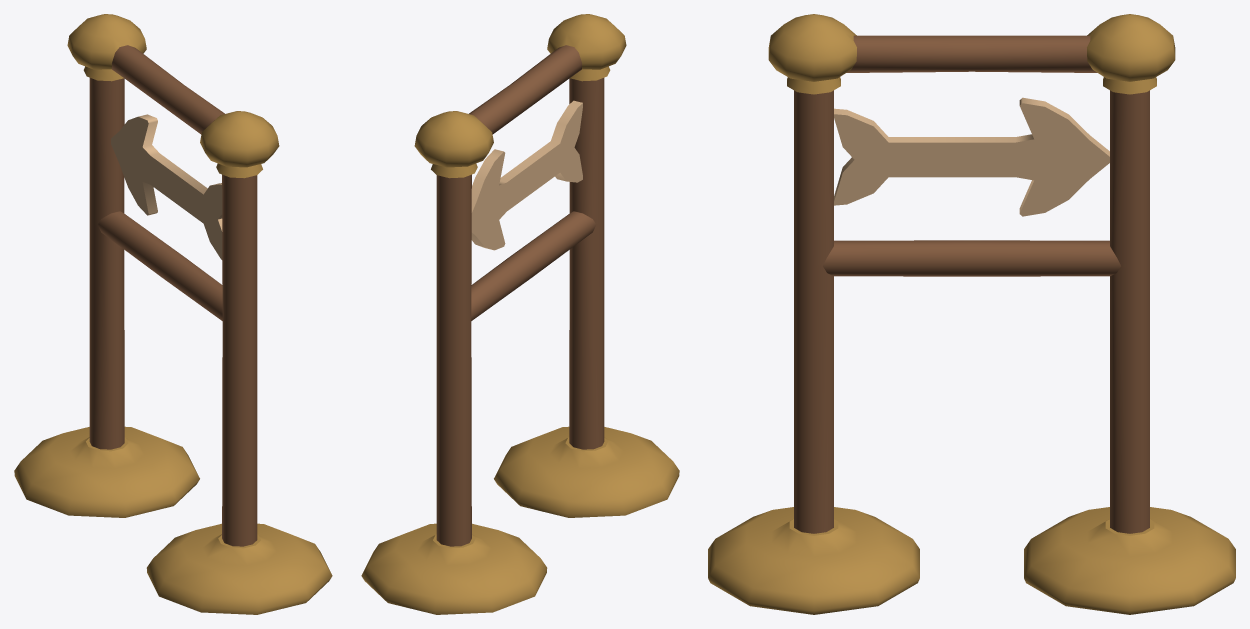
Rendered from 124_arrow_sign.glb.
3 views of the same model, side by side, from view 1: azimuth 30°, elevation 25°; view 2: azimuth 150°, elevation 25°; view 3: azimuth 270°, elevation 25° (orthographic). The views are drawn at different scales.
Visible parts, largest first — view 1: structure, arrow; view 2: structure, arrow; view 3: structure, arrow.
Part boxes in pixels (x1=…): structure: x1=14, y1=14, x2=332, y2=614; arrow: x1=111, y1=114, x2=222, y2=259; structure: x1=361, y1=14, x2=679, y2=614; arrow: x1=471, y1=100, x2=582, y2=250; structure: x1=708, y1=14, x2=1235, y2=614; arrow: x1=834, y1=97, x2=1109, y2=216.
Bounding box in the file's own units: 0.3191 × 0.8756 × 0.7558.
